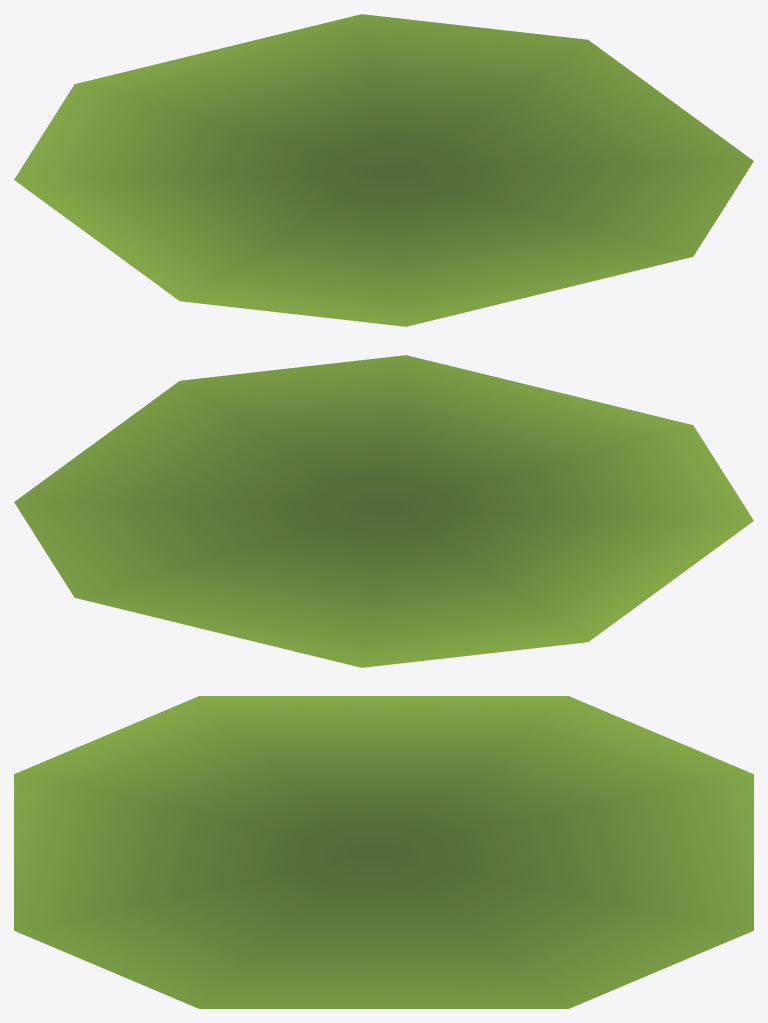
Rendered from soup_bowl_full_green.fbx.
3 renders of one model, top to bottom at view 1: azimuth 30°, elevation 25°; view 2: azimuth 150°, elevation 25°; view 3: azimuth 270°, elevation 25°, orthographic. The views are drawn at different scales.
Parts seen in each view (by area): view 1: soup_bowl_full_green; view 2: soup_bowl_full_green; view 3: soup_bowl_full_green.
Part boxes in pixels (<box>): soup_bowl_full_green: <box>14,14,753,326</box>; soup_bowl_full_green: <box>14,355,753,667</box>; soup_bowl_full_green: <box>14,696,753,1008</box>.
Bounding box in the file's own units: 24.53 × 2e-05 × 24.53.
